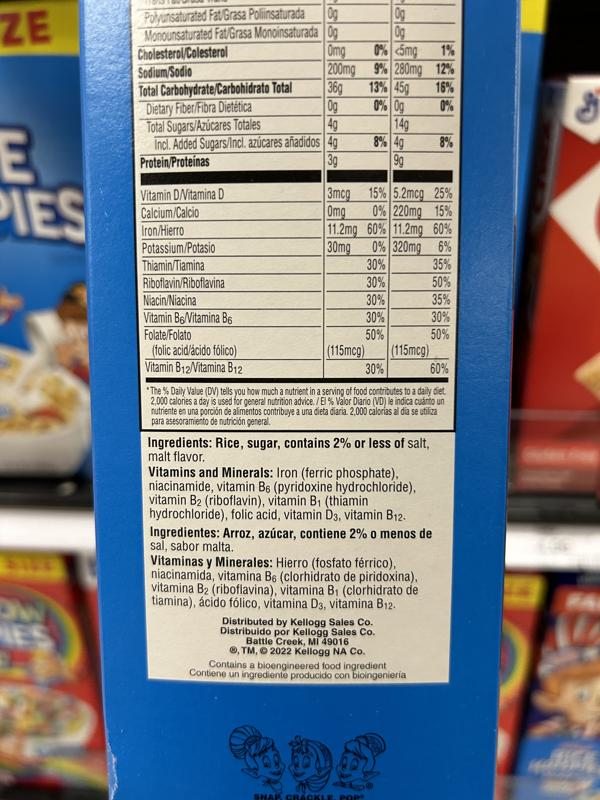ingredients: (145, 435, 432, 465)
